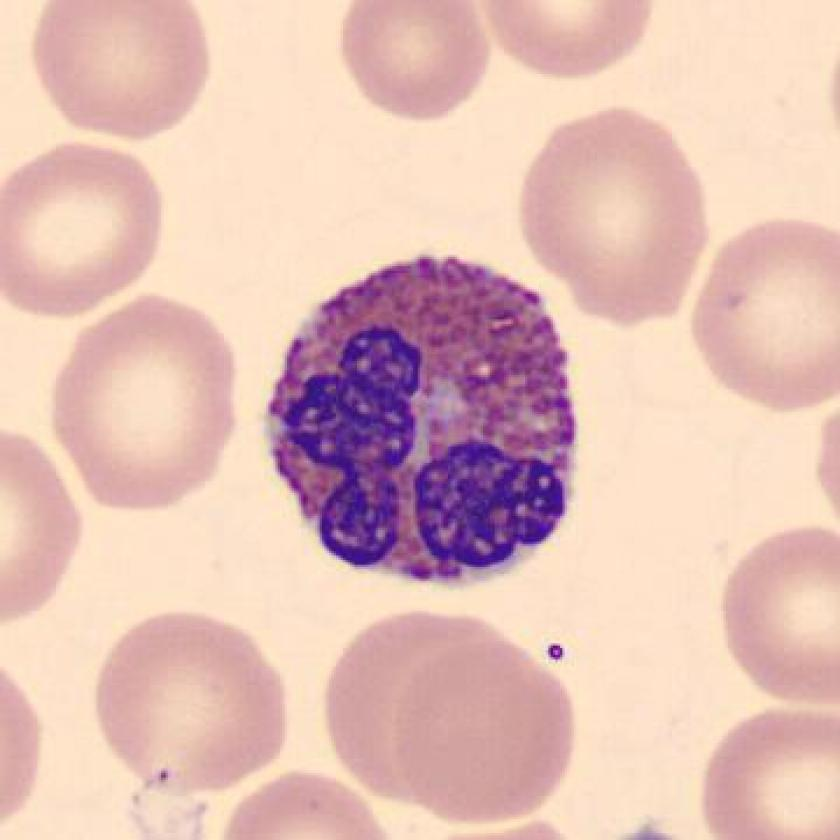eosinophil: (255, 239, 589, 598)
